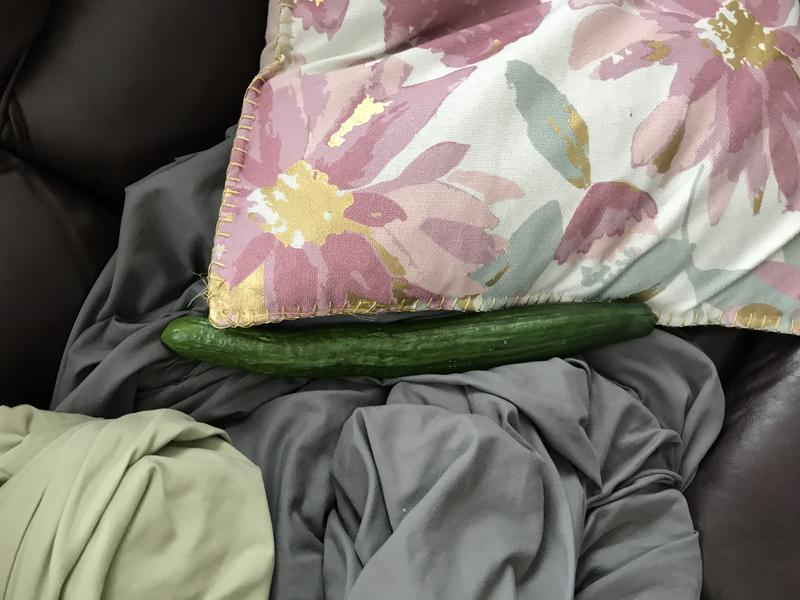cucumber: (155, 296, 674, 383)
